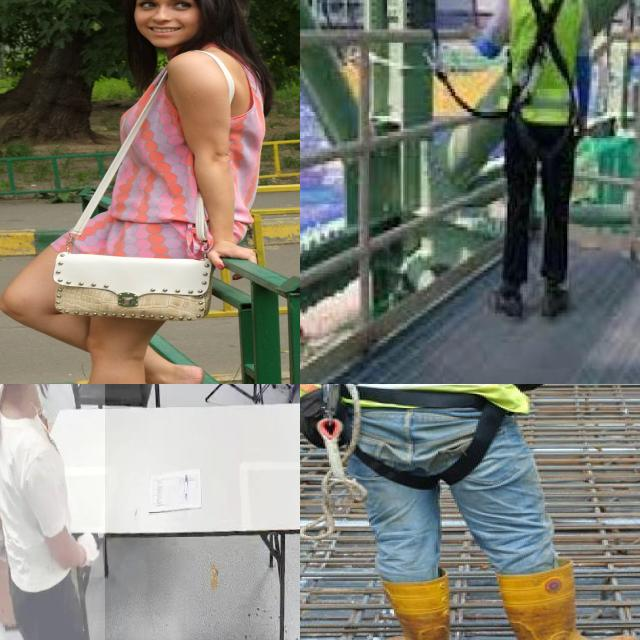Barefoots: (167, 364, 204, 384)
Harness: (300, 384, 530, 495), (509, 0, 583, 164)
hand_glove: (80, 527, 104, 578)
person: (0, 384, 105, 640)
